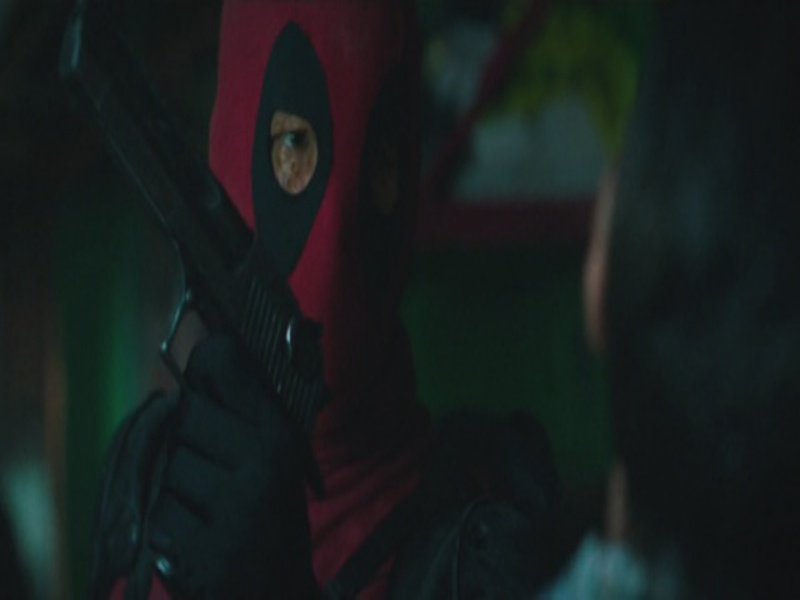person: (92, 1, 525, 593)
weapon: (62, 17, 335, 496)
